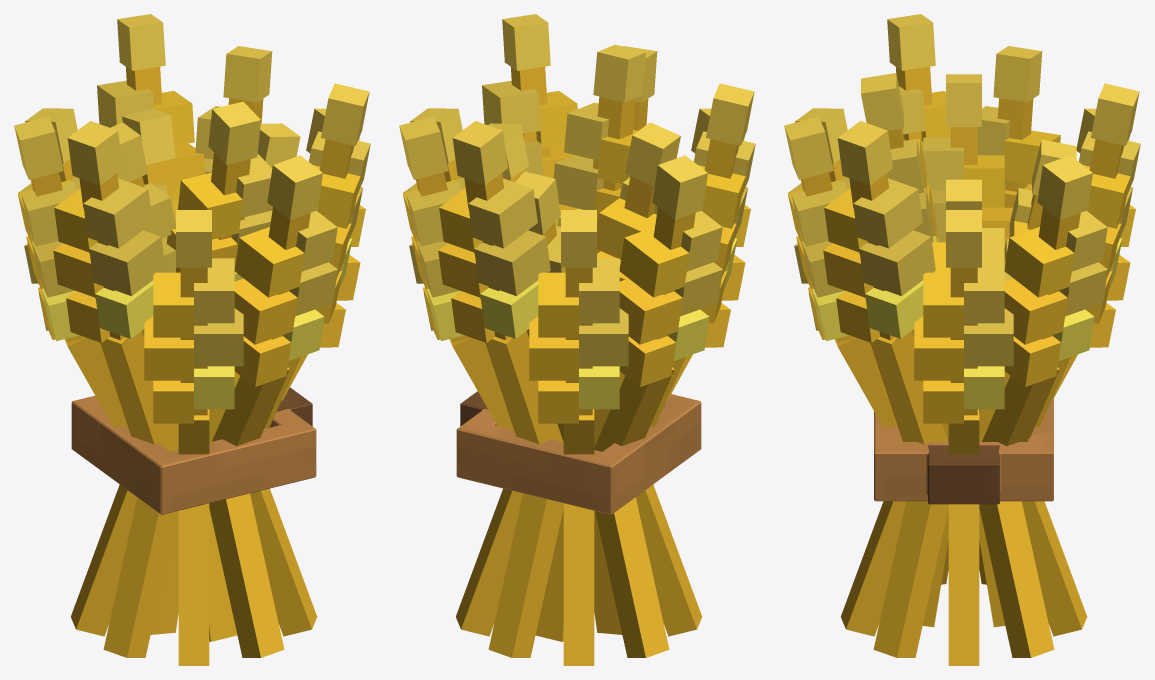
The model's file is SM_VMF_Crop_Wheat_Harvest.fbx.
3 views of the same model, side by side, from view 1: azimuth 30°, elevation 25°; view 2: azimuth 150°, elevation 25°; view 3: azimuth 270°, elevation 25° (orthographic).
Visible parts, largest first — view 1: SM_VMF_Crop_Wheat_Harvest_SeedHeads, SM_VMF_Crop_Wheat_Harvest_Stems, SM_VMF_Crop_Wheat_Harvest_Binding; view 2: SM_VMF_Crop_Wheat_Harvest_SeedHeads, SM_VMF_Crop_Wheat_Harvest_Stems, SM_VMF_Crop_Wheat_Harvest_Binding; view 3: SM_VMF_Crop_Wheat_Harvest_SeedHeads, SM_VMF_Crop_Wheat_Harvest_Stems, SM_VMF_Crop_Wheat_Harvest_Binding.
Boxes of the visible parts, left/top/right/bottom form: SM_VMF_Crop_Wheat_Harvest_SeedHeads: left=14, top=14, right=370, bottom=423; SM_VMF_Crop_Wheat_Harvest_Stems: left=64, top=331, right=317, bottom=665; SM_VMF_Crop_Wheat_Harvest_Binding: left=71, top=387, right=316, bottom=514; SM_VMF_Crop_Wheat_Harvest_SeedHeads: left=399, top=14, right=755, bottom=423; SM_VMF_Crop_Wheat_Harvest_Stems: left=449, top=331, right=702, bottom=665; SM_VMF_Crop_Wheat_Harvest_Binding: left=456, top=391, right=701, bottom=514; SM_VMF_Crop_Wheat_Harvest_SeedHeads: left=784, top=14, right=1140, bottom=423; SM_VMF_Crop_Wheat_Harvest_Stems: left=834, top=329, right=1087, bottom=665; SM_VMF_Crop_Wheat_Harvest_Binding: left=874, top=398, right=1053, bottom=504.
Size of the model in its own units: 40.35 by 66.52 by 39.61.
1 material, 1 textured.
